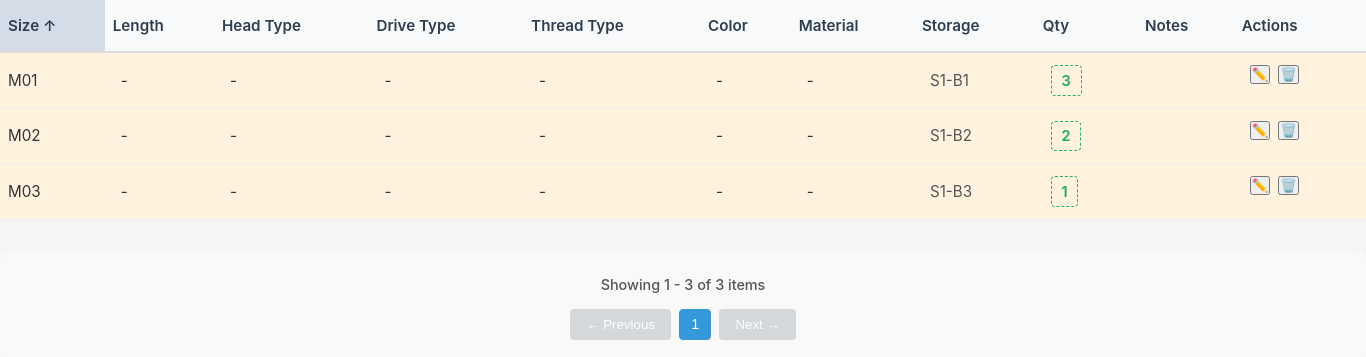
sorting › returns to the new category’s default sort when another category is shown
Click the column heading with class "sortable" showing "Qty" at (1056,26), box top-left (1035, 0), bottom-right (1137, 52)
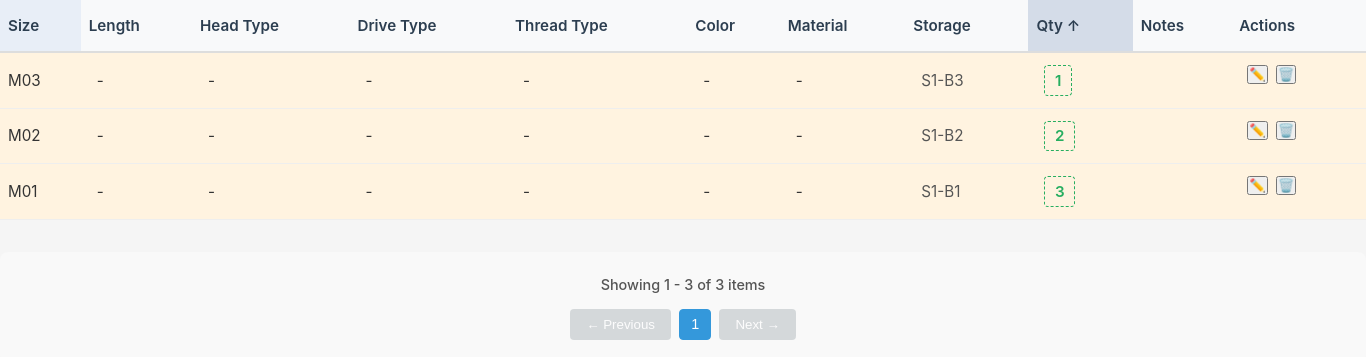
Now the column heading "Qty ↑" is shown, box top-left (1028, 0), bottom-right (1133, 52)
